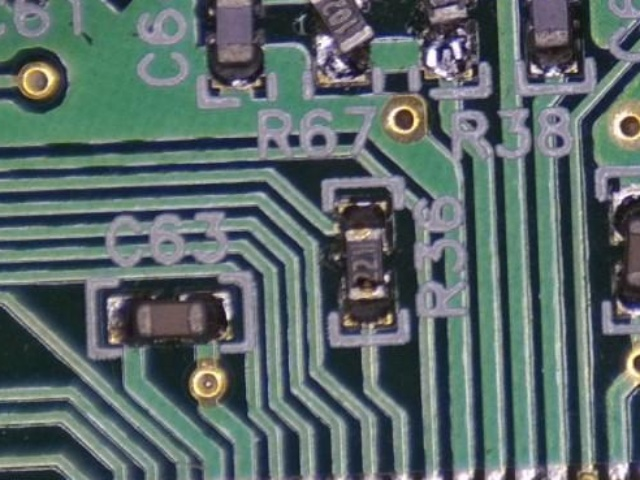pcb_defect: (305, 0, 376, 84), (412, 0, 479, 80), (610, 182, 640, 317)
